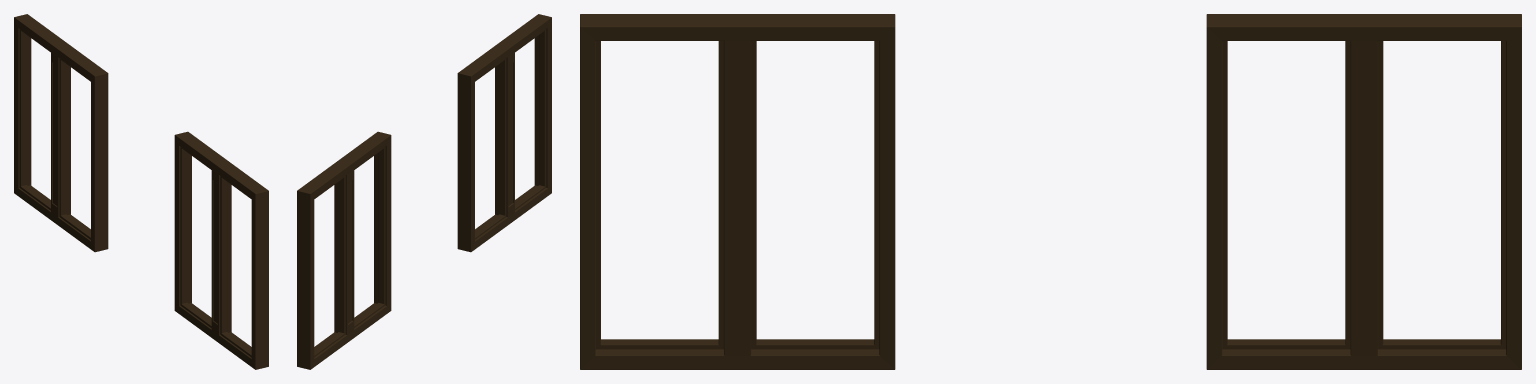
The model's file is window.fbx.
3 views of the same model, side by side, from view 1: azimuth 30°, elevation 25°; view 2: azimuth 150°, elevation 25°; view 3: azimuth 270°, elevation 25° (orthographic). The views are drawn at different scales.
Parts seen in each view (by area): view 1: room.001; view 2: room.001; view 3: room.001.
Boxes of the visible parts, left/top/right/bottom form: room.001: left=14, top=14, right=268, bottom=369; room.001: left=297, top=14, right=551, bottom=369; room.001: left=580, top=14, right=1521, bottom=369.
Size of the model in its own units: 26.08 by 325 by 808.
